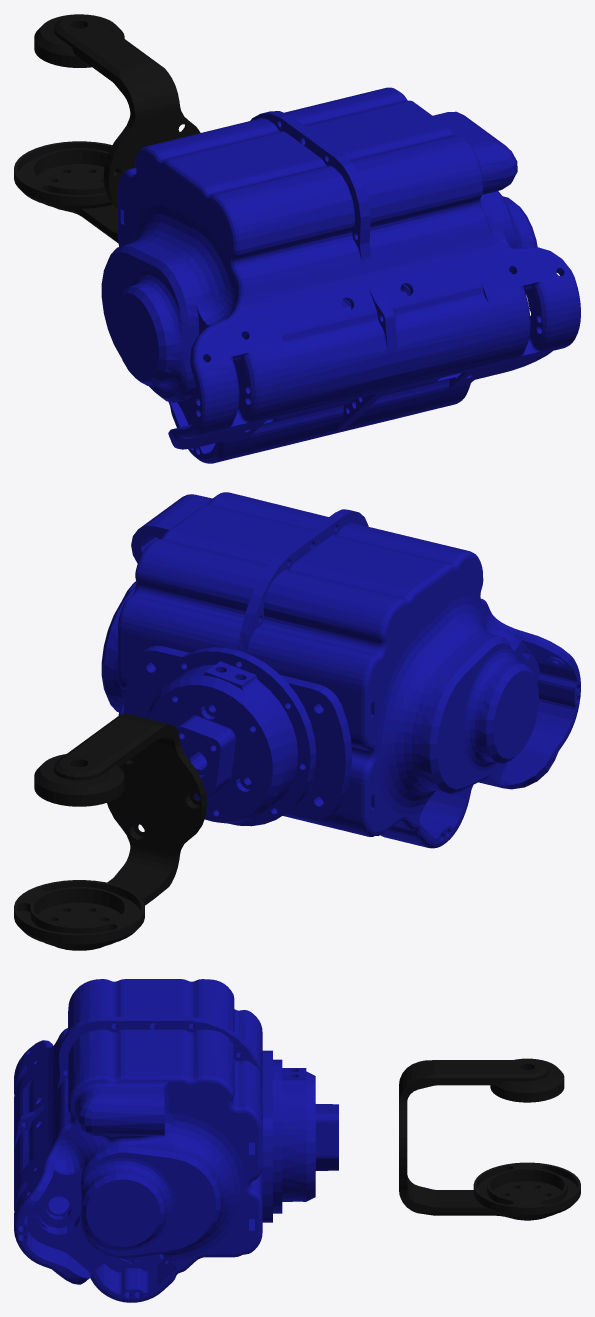
Rendered from endEffectorWPalm_left.obj.
The picture shows the model from 3 angles, top to bottom: view 1: azimuth 30°, elevation 25°; view 2: azimuth 150°, elevation 25°; view 3: azimuth 270°, elevation 25°; orthographic projection. The views are drawn at different scales.
Parts seen in each view (by area): view 1: palm_palm.001, wrist_yaw_right.003, wrist_yaw_right_flange.003; view 2: palm_palm.001, wrist_yaw_right.003, wrist_yaw_right_flange.003; view 3: palm_palm.001, wrist_yaw_right.003, wrist_yaw_right_flange.003.
Part boxes in pixels (bbox=[...]): palm_palm.001: bbox=[101, 87, 580, 463]; wrist_yaw_right.003: bbox=[34, 14, 200, 243]; wrist_yaw_right_flange.003: bbox=[14, 141, 119, 210]; palm_palm.001: bbox=[101, 492, 580, 848]; wrist_yaw_right.003: bbox=[34, 713, 207, 950]; wrist_yaw_right_flange.003: bbox=[14, 880, 144, 949]; palm_palm.001: bbox=[14, 979, 338, 1302]; wrist_yaw_right.003: bbox=[399, 1058, 564, 1220]; wrist_yaw_right_flange.003: bbox=[473, 1162, 580, 1218].
Size of the model in its own units: 0.154 by 0.1113 by 0.2431.
